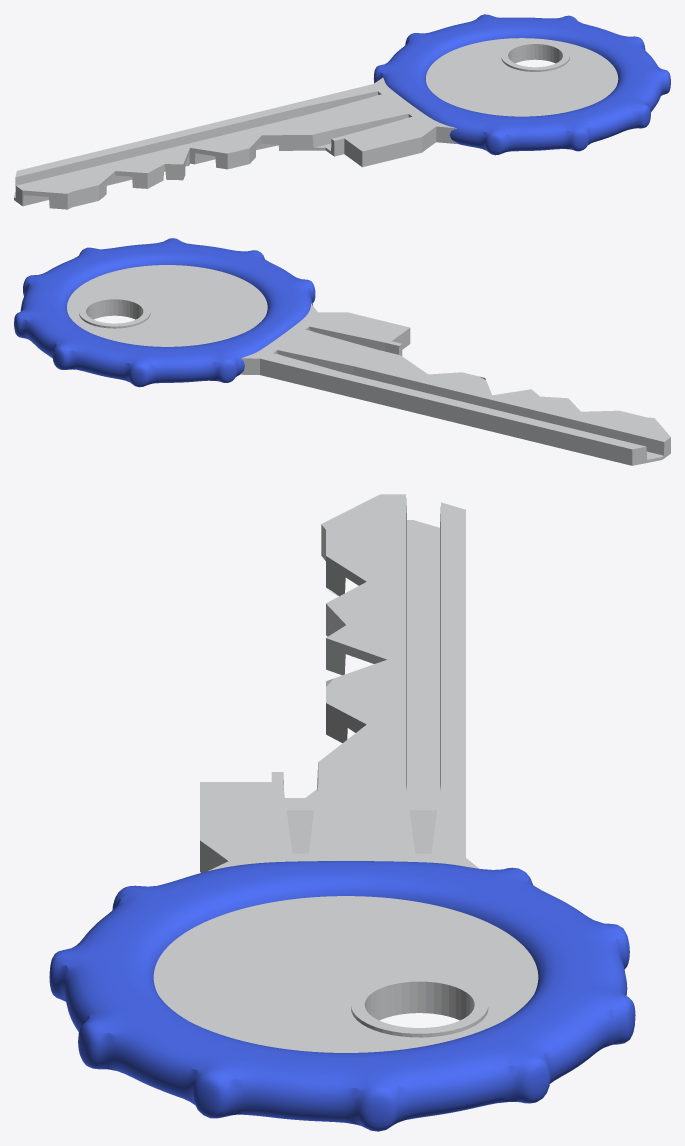
File: keyBlue.fbx
3 views of the same model, one above another, from view 1: azimuth 30°, elevation 25°; view 2: azimuth 150°, elevation 25°; view 3: azimuth 270°, elevation 25° (orthographic). The views are drawn at different scales.
Parts seen in each view (by area): view 1: Cylinder.017, Cylinder.018; view 2: Cylinder.017, Cylinder.018; view 3: Cylinder.017, Cylinder.018.
Part boxes in pixels (x1,y1,x2,y2): Cylinder.017: (14, 38, 618, 209); Cylinder.018: (373, 14, 670, 155); Cylinder.017: (67, 265, 670, 465); Cylinder.018: (14, 238, 315, 387); Cylinder.017: (153, 494, 538, 1052); Cylinder.018: (49, 861, 635, 1131).
Bounding box in the file's own units: 699 × 26.02 × 286.
